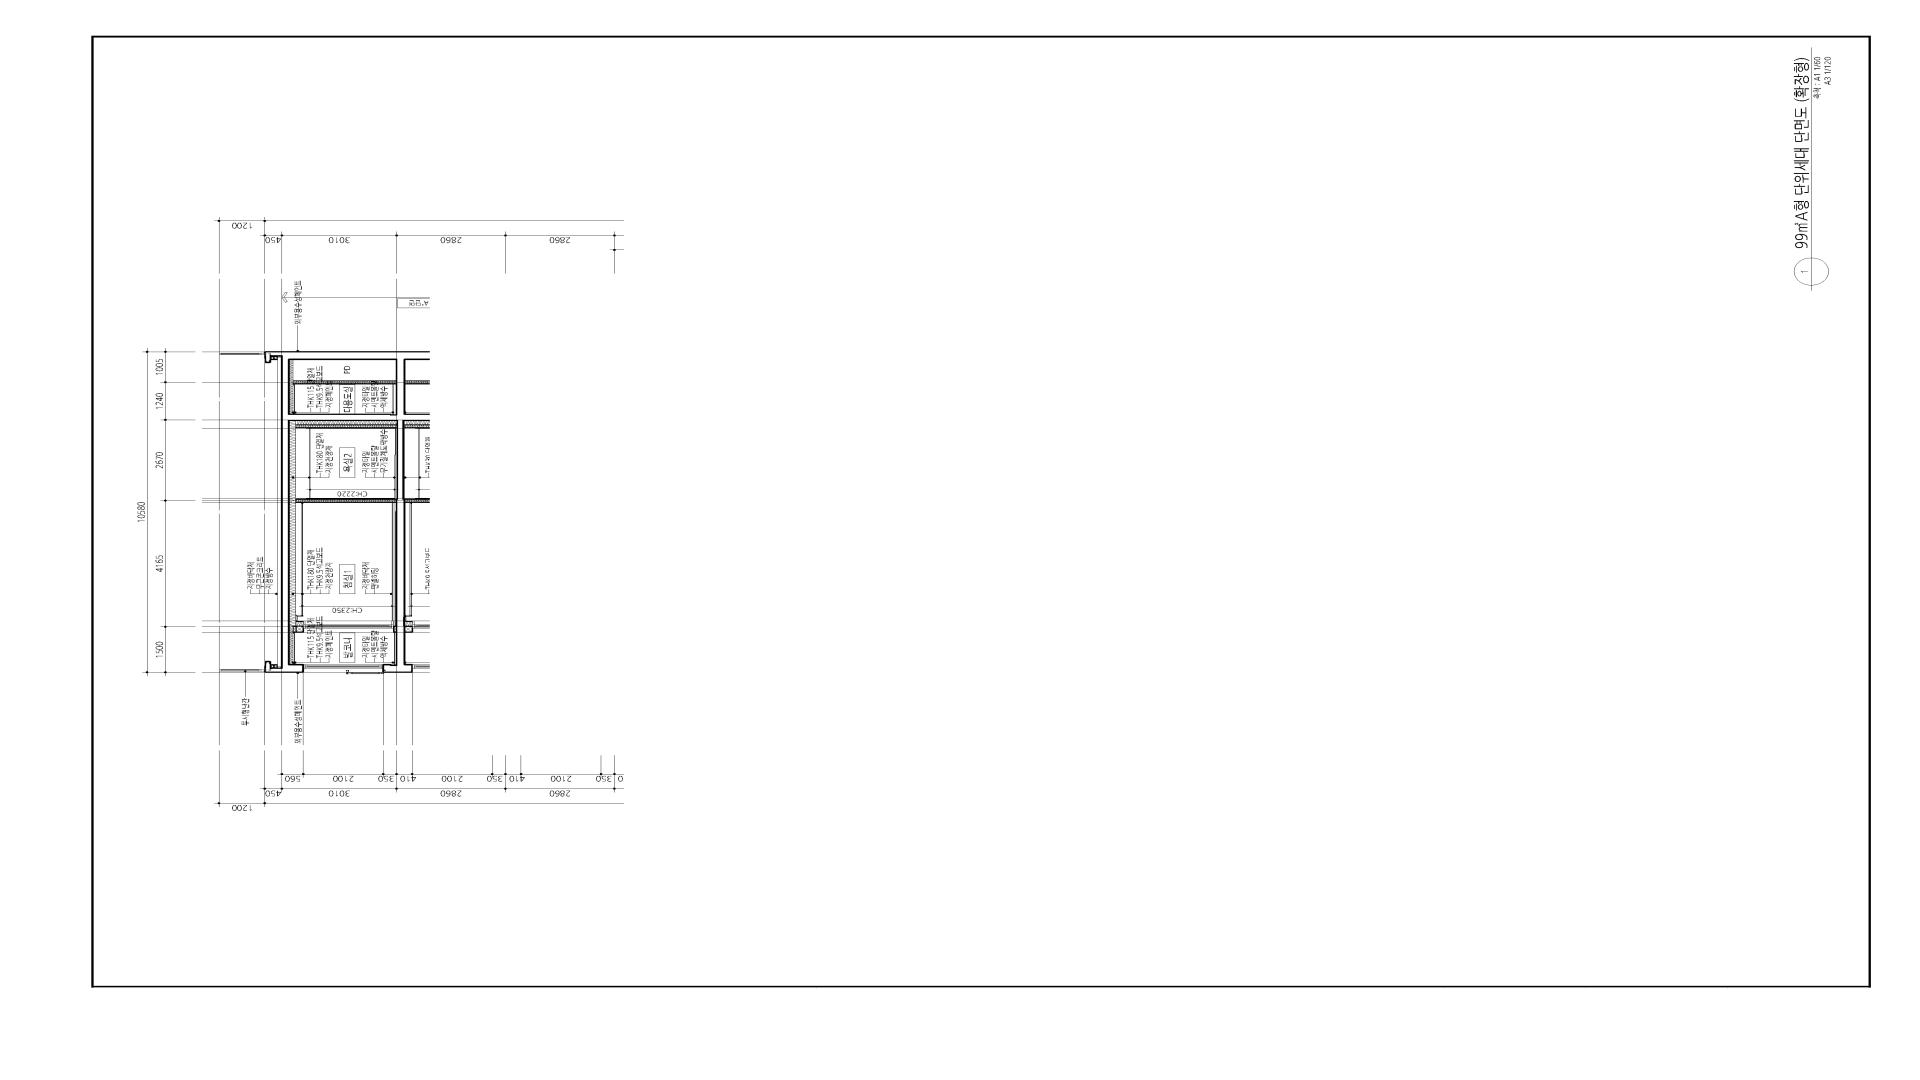wall: (281, 351, 405, 673), (290, 360, 396, 414), (293, 380, 396, 385), (295, 425, 396, 429), (295, 498, 396, 502), (293, 626, 303, 633), (393, 626, 396, 633)
window: (303, 621, 393, 633), (303, 665, 384, 674)
